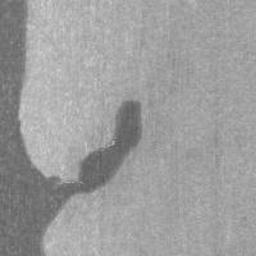Water spot: (0, 0, 145, 256)
